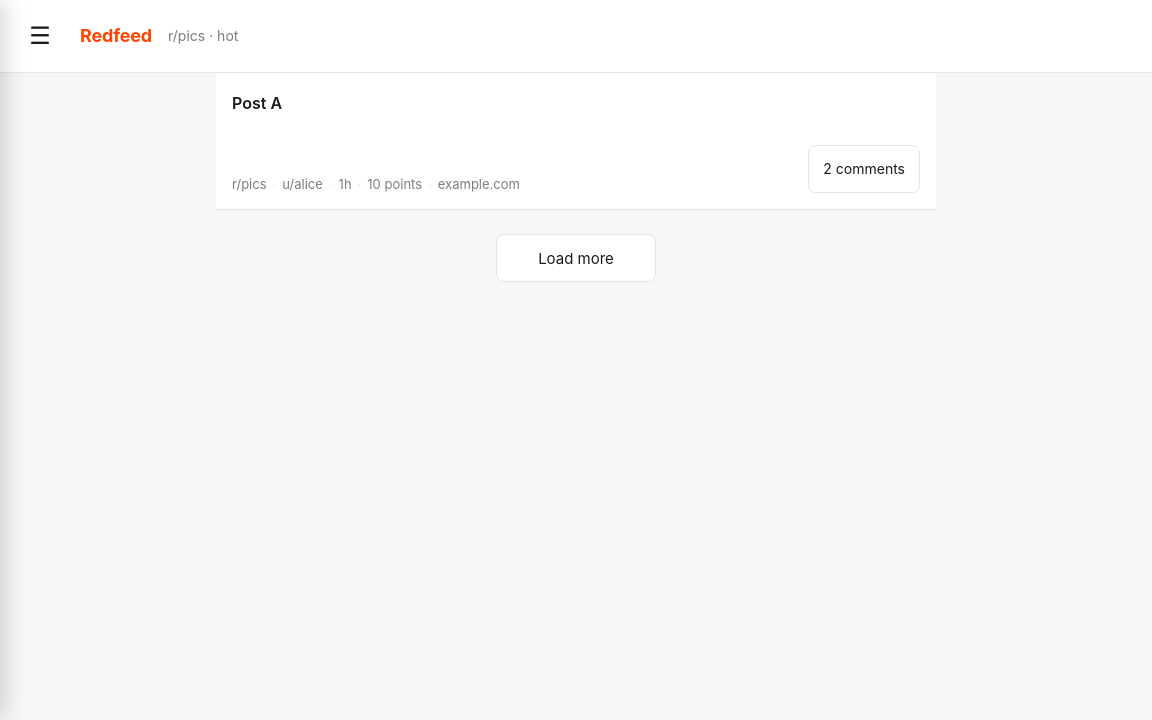
FeedPage pagination › surfaces a Retry control when load-more fails
This screenshot has width=1152, height=720.
Expected: the text "Post A" is shown, [232, 93, 282, 113]
Click the button with aria-label "load more posts": (576, 258) [496, 234, 656, 282]
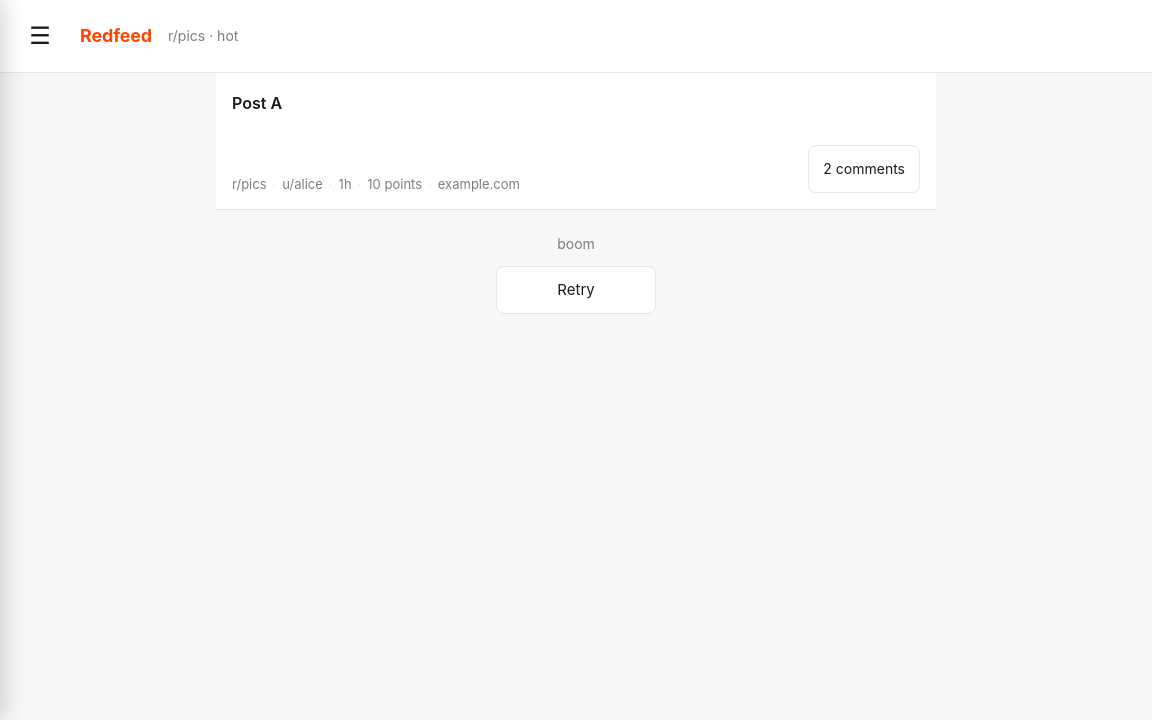
Expected: the text "boom" is shown, [557, 234, 595, 254]
Expected: the button "Retry" is shown, [496, 266, 656, 314]
